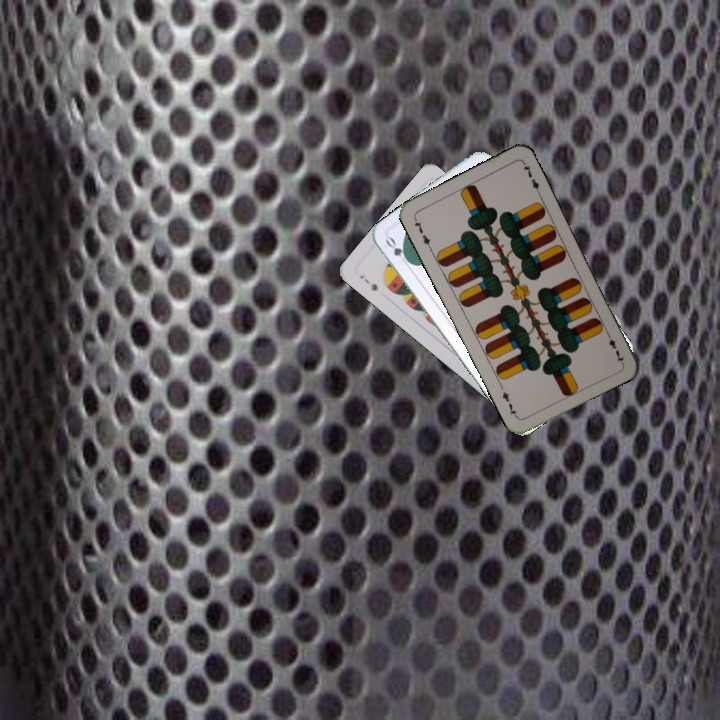E7: (602, 327, 627, 365), (410, 214, 434, 252)
GO: (381, 233, 414, 269)
S7: (355, 271, 380, 294)
